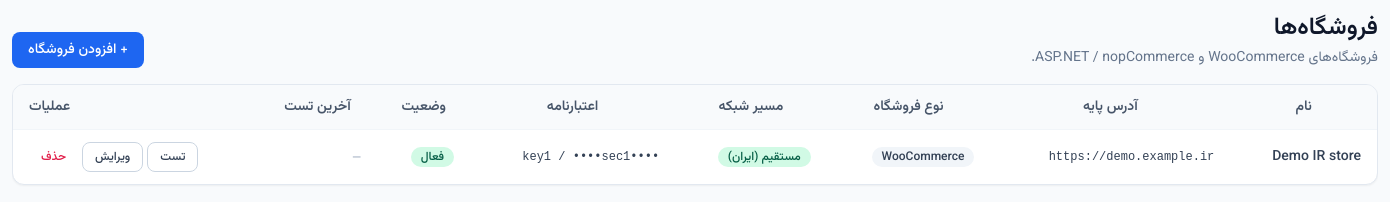
Test case: Sites list › shows a success result with latency + route after a successful test
Click the button "تست" at (173, 157), box [147,142,198,172]
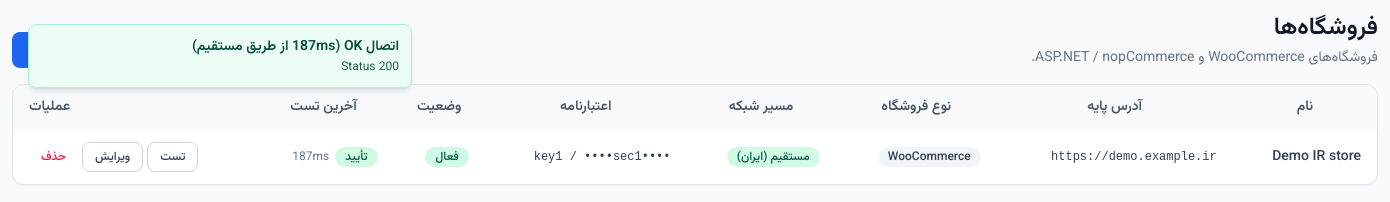
expect the text "تأیید" is shown: met, box [335,147,378,167]
